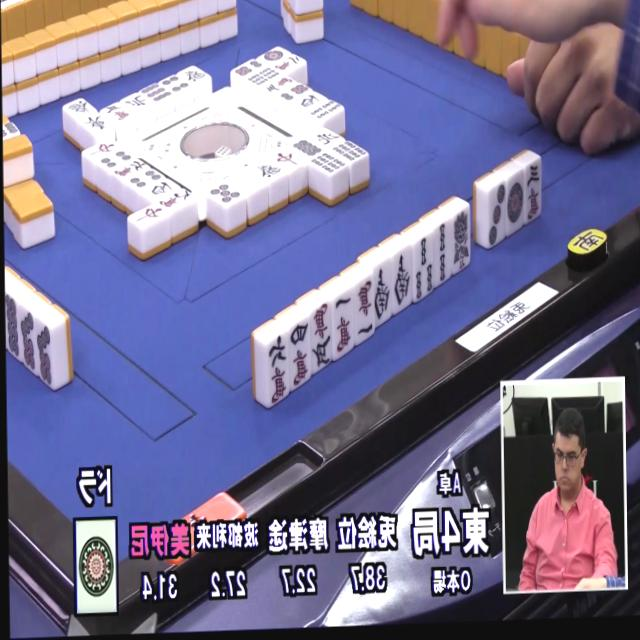m1: (331, 292, 356, 359), (352, 279, 377, 344)
m3: (524, 155, 543, 218)
m4: (285, 317, 312, 389)
m5: (310, 303, 335, 371)
m6: (262, 332, 292, 406)
s1: (451, 208, 472, 275)
s3: (412, 234, 437, 302), (432, 220, 452, 287)
south: (390, 248, 413, 311), (373, 263, 394, 324)
t1: (78, 523, 115, 609), (504, 174, 524, 234)
t3: (487, 182, 507, 250)
t7: (16, 307, 37, 376), (34, 322, 55, 391)
t8: (4, 291, 20, 360)
